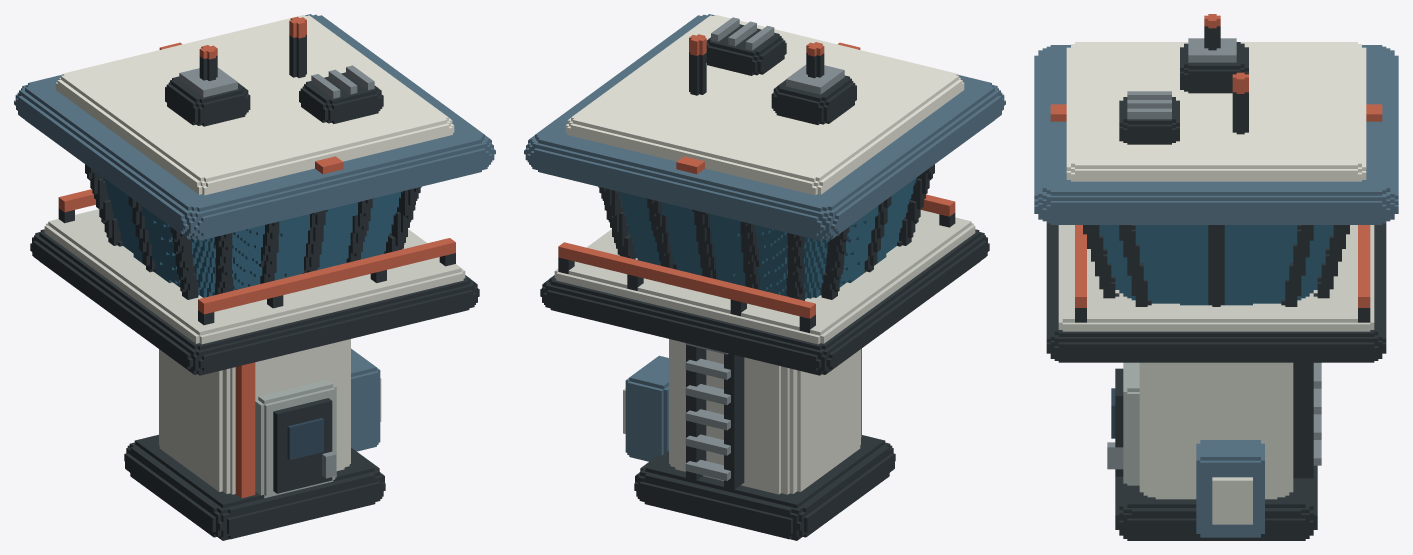
The model's file is control_tower.glb.
The picture shows the model from 3 angles, left to right: view 1: azimuth 30°, elevation 25°; view 2: azimuth 150°, elevation 25°; view 3: azimuth 270°, elevation 25°; orthographic projection.
Parts seen in each view (by area): view 1: control_tower; view 2: control_tower; view 3: control_tower.
Boxes of the visible parts, box(x1,y1,x2,y2) form: control_tower: box(14, 14, 495, 540); control_tower: box(524, 14, 1005, 540); control_tower: box(1034, 14, 1398, 540).
Bounding box in the file's own units: 4.5 × 6.3 × 4.5.
